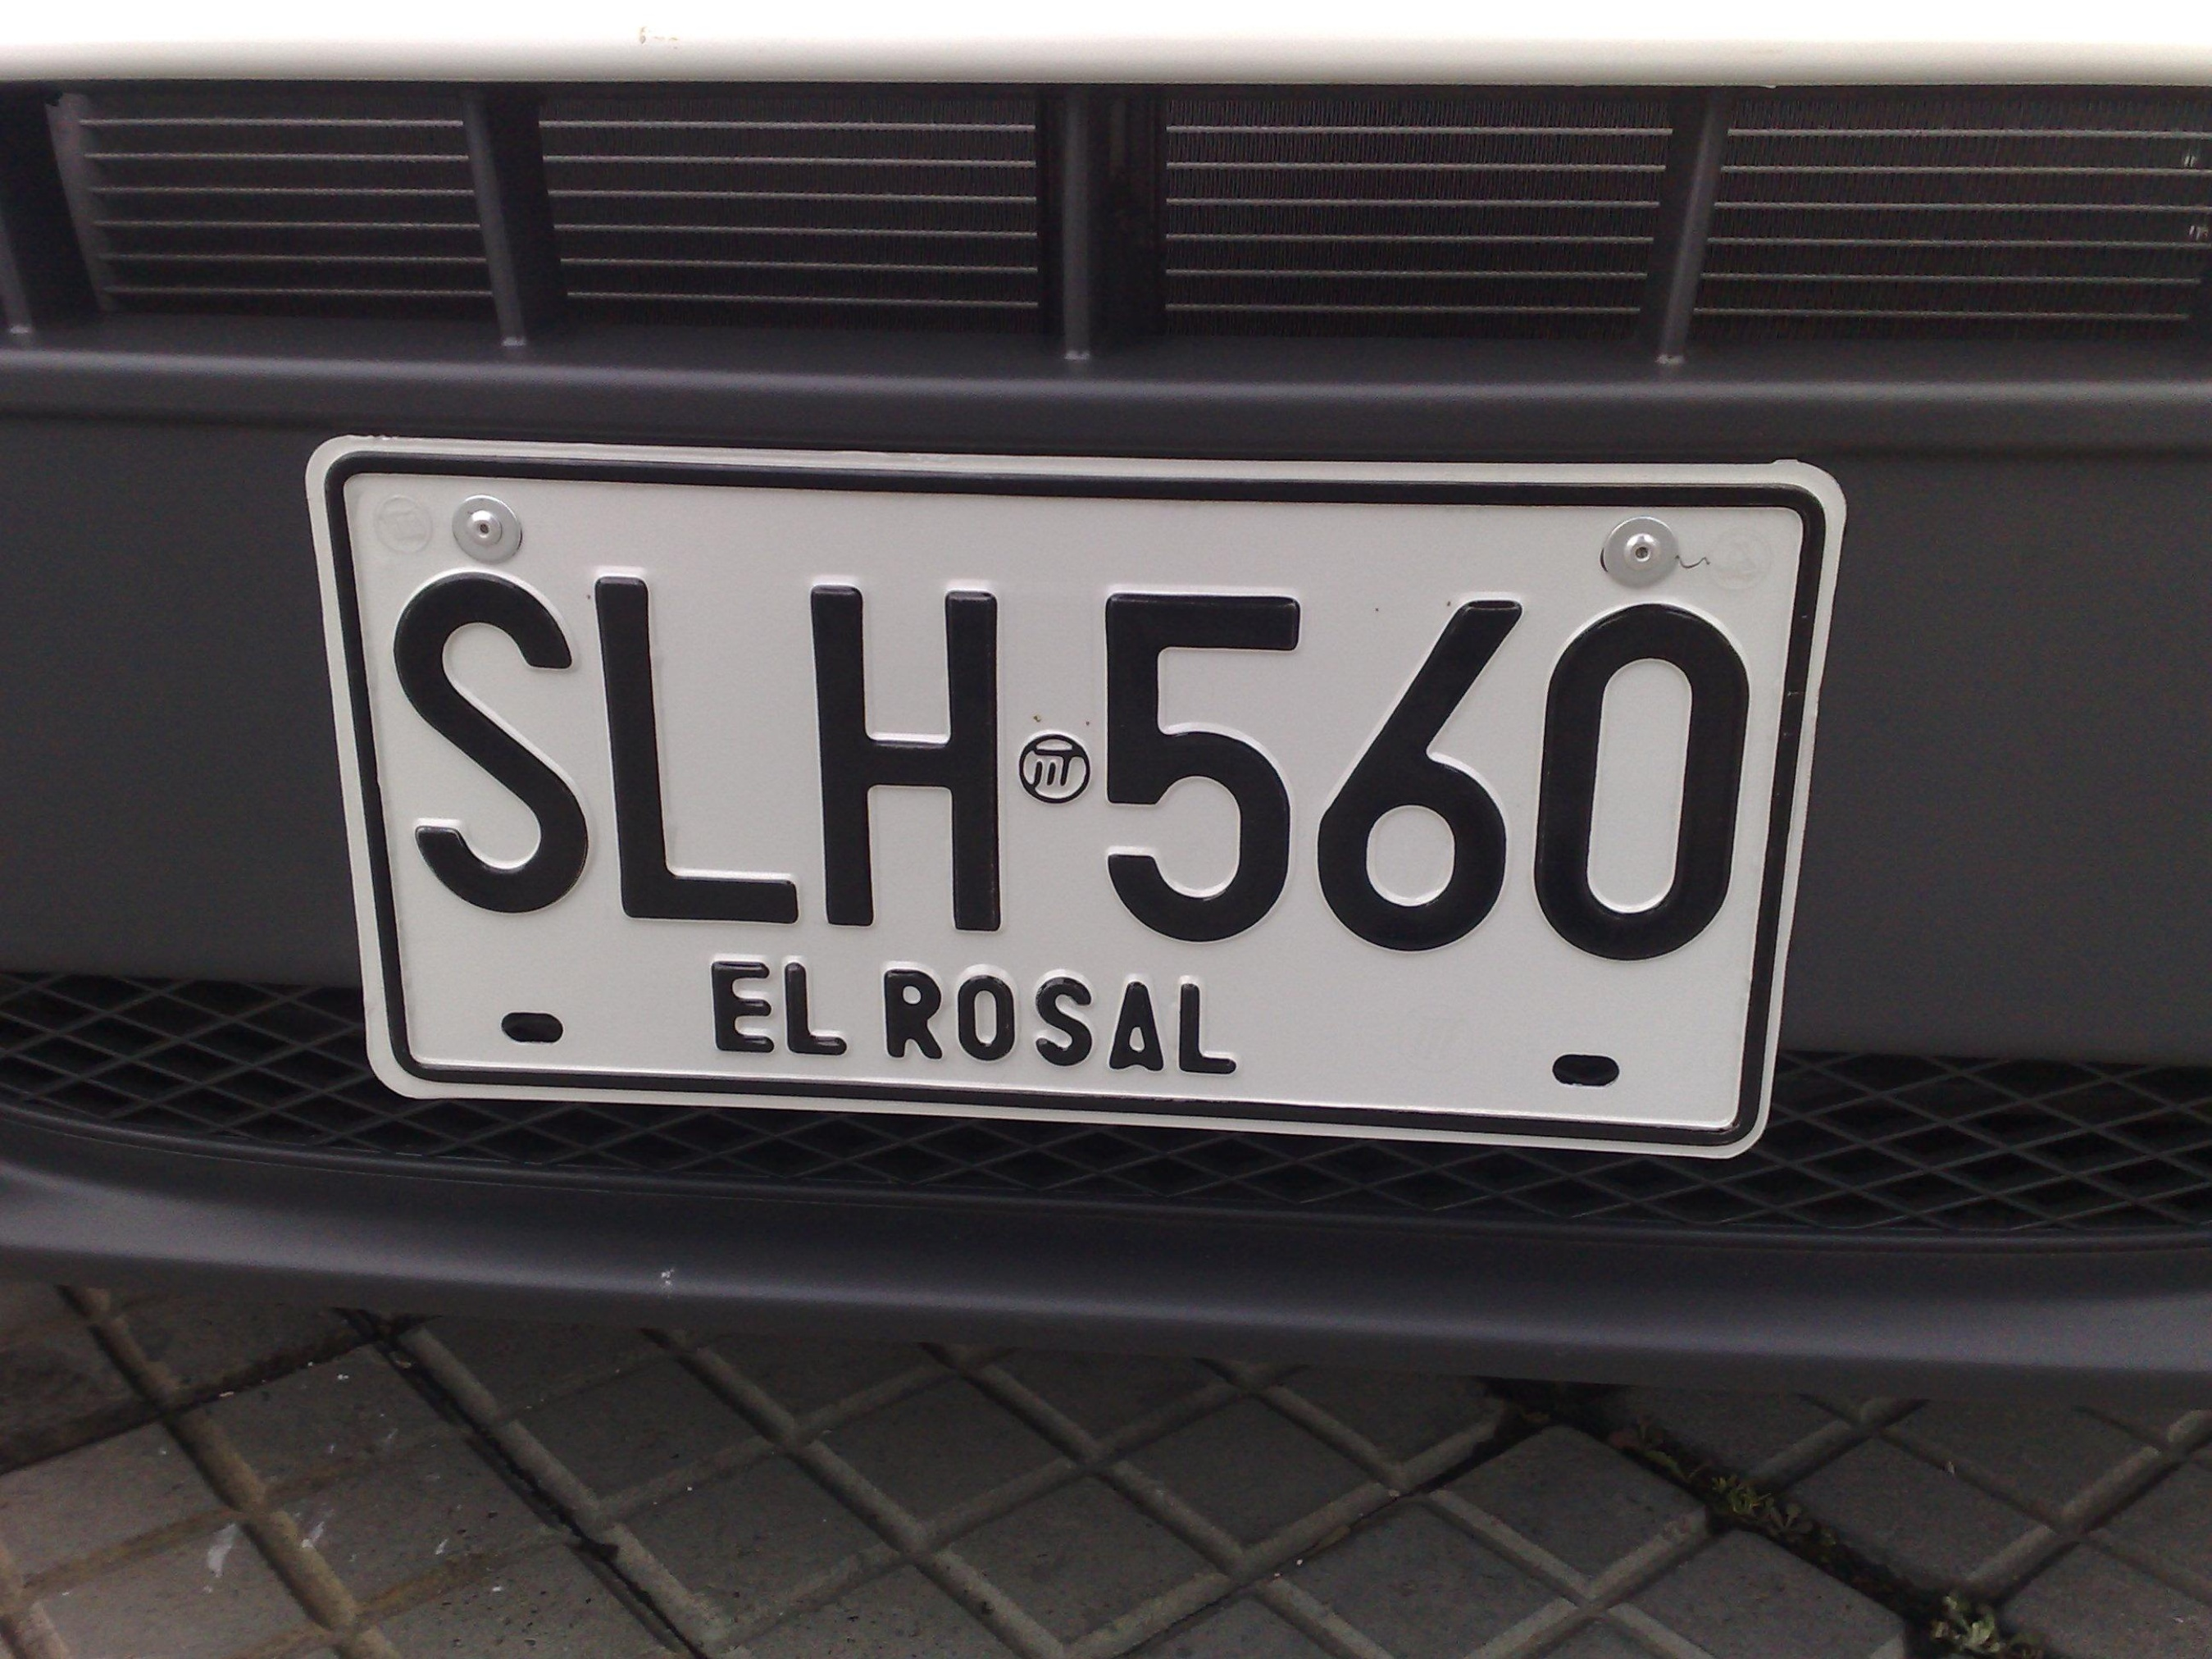placas: (289, 410, 1855, 1174)
